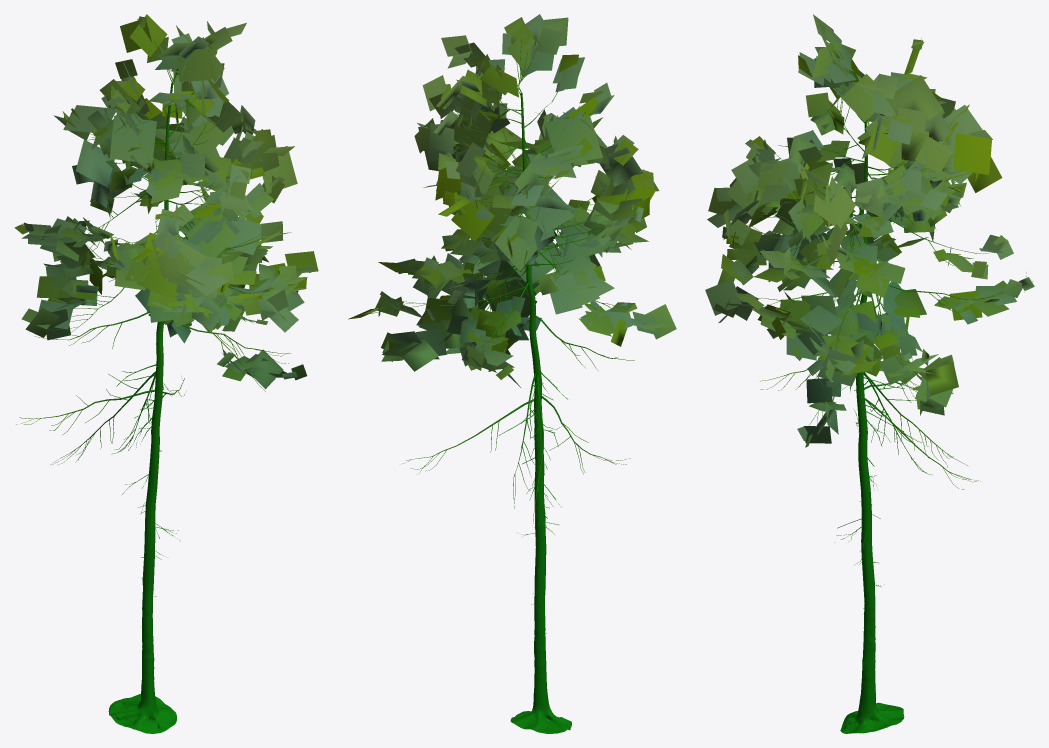
Rendered from fir_tree_01_2.glb.
3 views of the same model, side by side, from view 1: azimuth 30°, elevation 25°; view 2: azimuth 150°, elevation 25°; view 3: azimuth 270°, elevation 25° (orthographic). The views are drawn at different scales.
Parts seen in each view (by area): view 1: fir_tree_01_2_cards, fir_tree_01_2_trunk; view 2: fir_tree_01_2_cards, fir_tree_01_2_trunk; view 3: fir_tree_01_2_cards, fir_tree_01_2_trunk.
Part boxes in pixels (x1,y1,x2,y2): fir_tree_01_2_cards: (14,14,318,389); fir_tree_01_2_trunk: (16,40,290,733); fir_tree_01_2_cards: (348,14,676,387); fir_tree_01_2_trunk: (393,40,645,733); fir_tree_01_2_cards: (705,14,1034,447); fir_tree_01_2_trunk: (735,51,1013,733).
Bounding box in the file's own units: 6.48 × 14.66 × 6.12.
